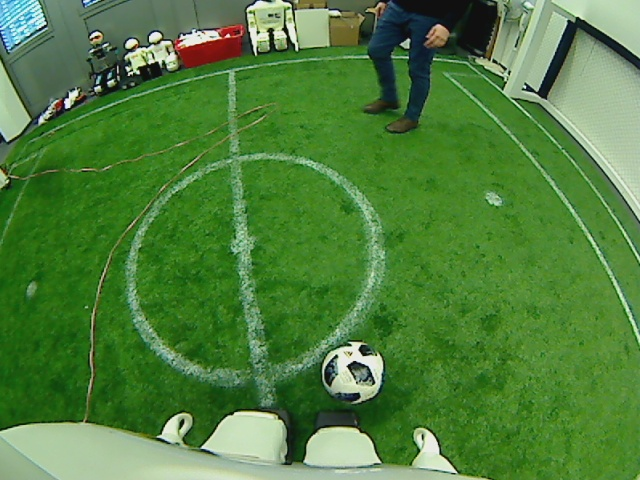ball: (319, 340, 383, 404)
